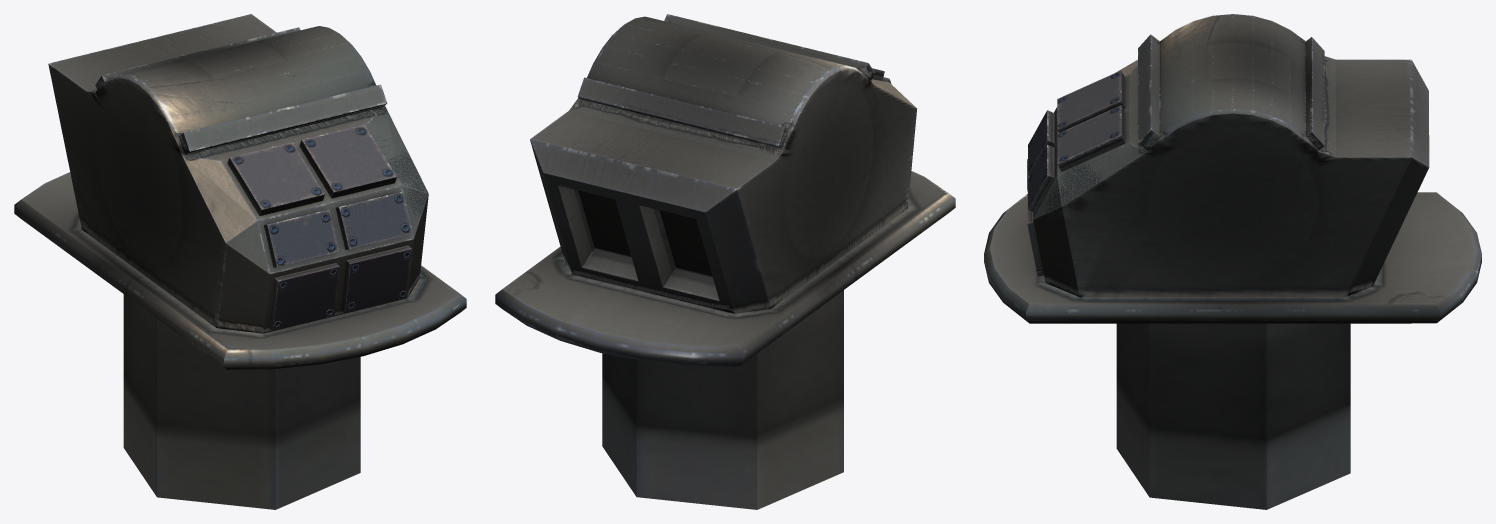
Rendered from rocket_launcher_top.obj.
3 renders of one model, left to right at view 1: azimuth 30°, elevation 25°; view 2: azimuth 150°, elevation 25°; view 3: azimuth 270°, elevation 25°, orthographic. The views are drawn at different scales.
Parts seen in each view (by area): view 1: rocket.001_meshId1_name.001; view 2: rocket.001_meshId1_name.001; view 3: rocket.001_meshId1_name.001.
Part boxes in pixels (left/top/right/bottom): rocket.001_meshId1_name.001: left=14, top=14, right=466, bottom=509; rocket.001_meshId1_name.001: left=495, top=14, right=955, bottom=509; rocket.001_meshId1_name.001: left=984, top=14, right=1481, bottom=509.
Size of the model in its own units: 0.5904 by 0.9377 by 1.06.
Materials: 1 (1 with a texture image).
